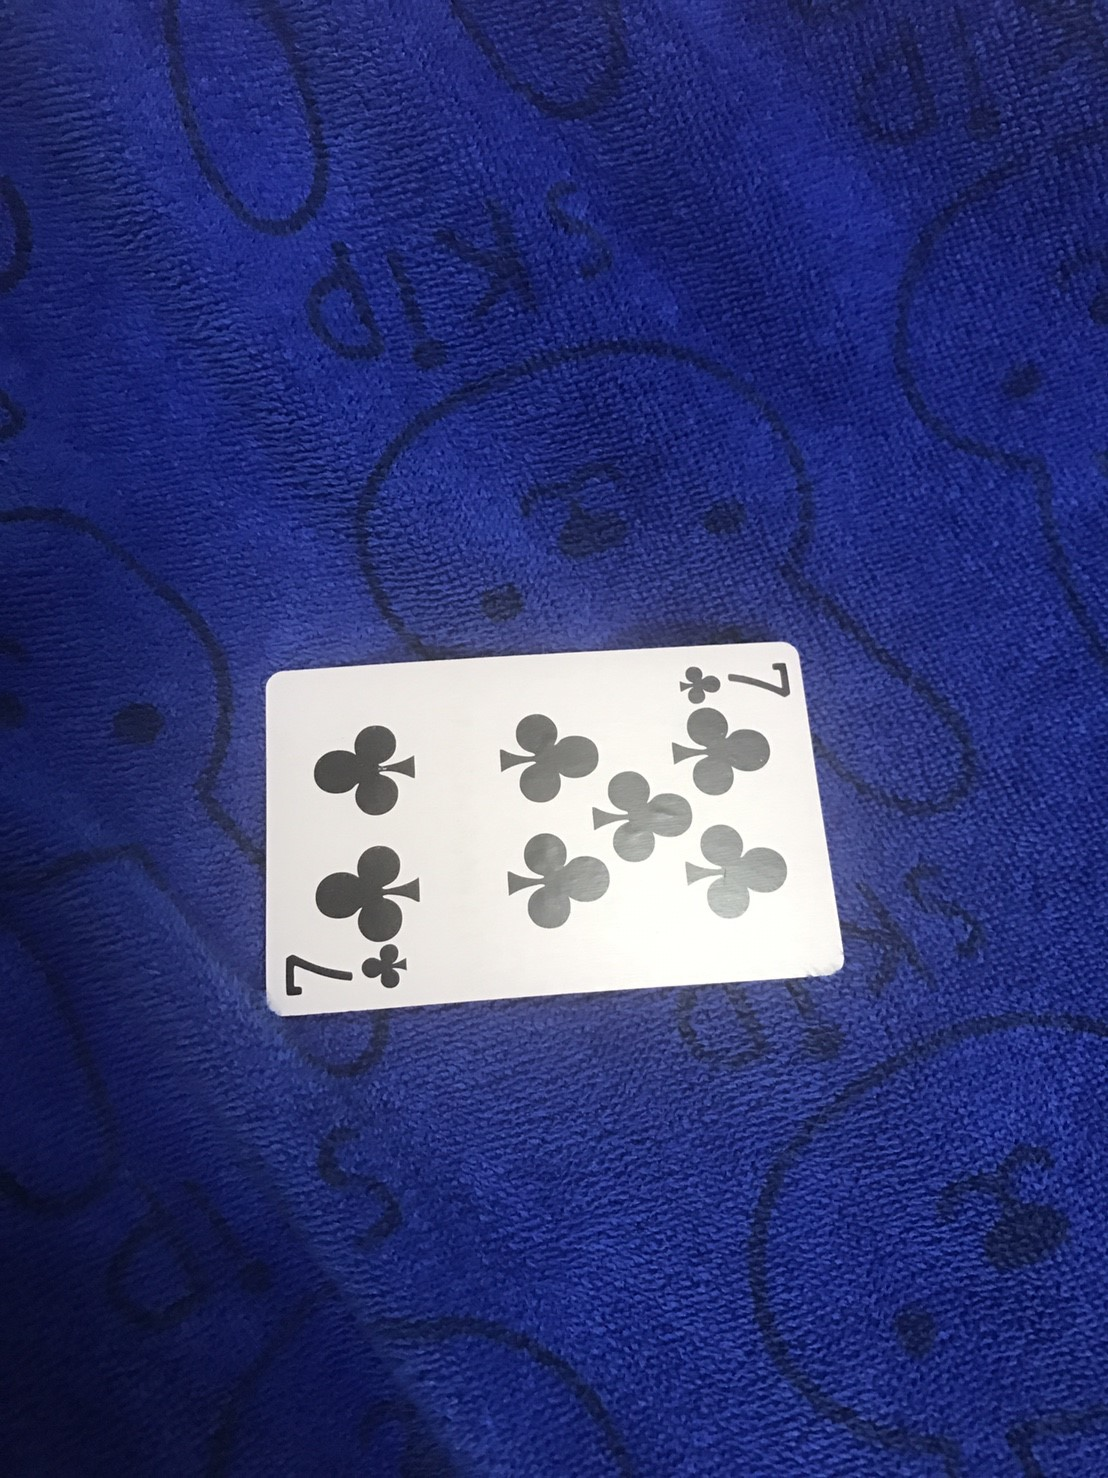clubs: (311, 843, 446, 941), (587, 763, 692, 876), (503, 831, 613, 938), (311, 718, 417, 823), (682, 826, 791, 926), (668, 708, 774, 802), (493, 706, 596, 802), (360, 937, 413, 992), (670, 654, 729, 702)
